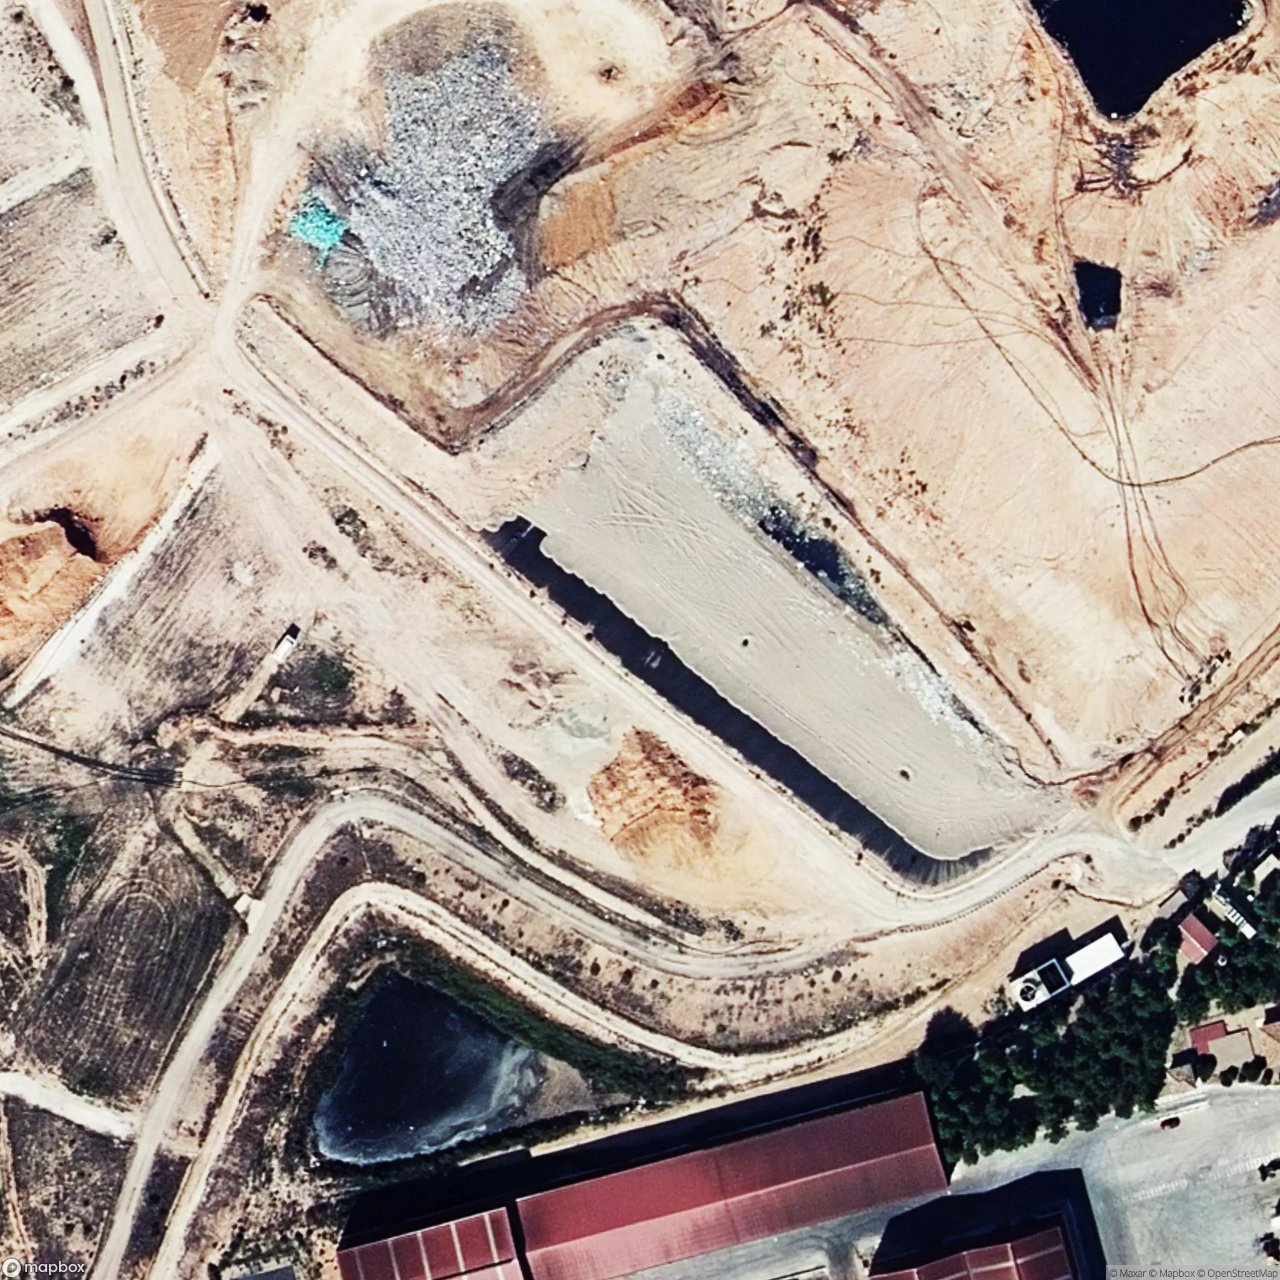dump_site: (270, 13, 591, 354)
